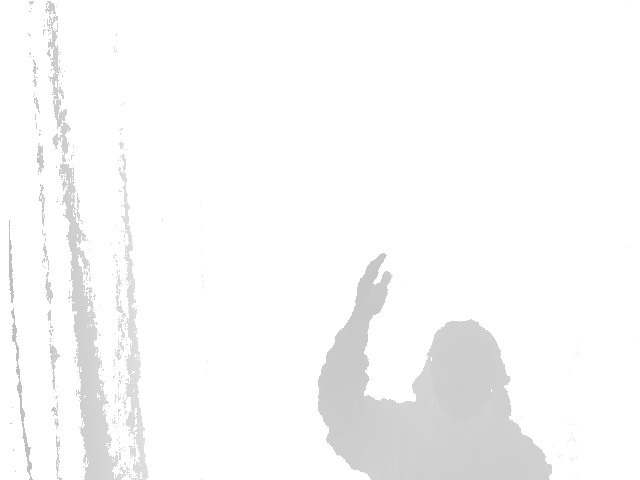hand: (354, 253, 392, 320)
head: (412, 319, 510, 410)
person: (318, 254, 551, 480)
